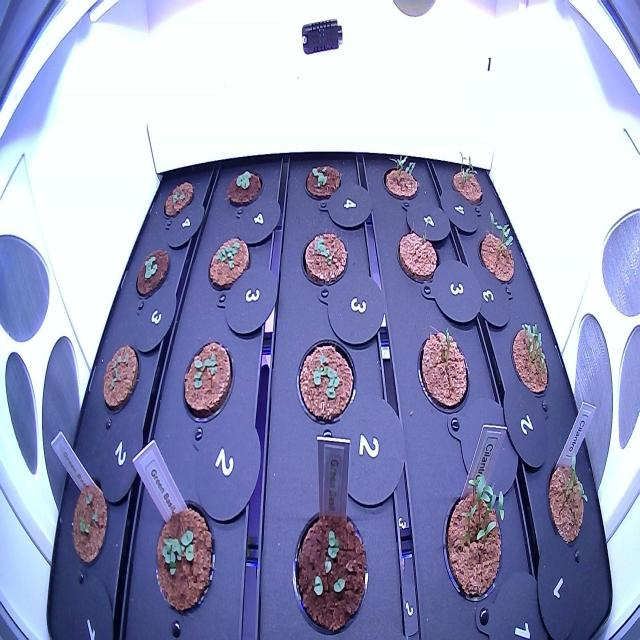germination: (289, 500, 372, 636), (437, 470, 510, 610), (148, 492, 218, 618), (292, 334, 359, 431), (416, 319, 471, 417), (178, 336, 236, 426), (546, 451, 591, 548), (473, 204, 520, 289), (65, 481, 109, 570), (391, 210, 442, 286), (508, 317, 554, 398), (298, 223, 350, 290), (205, 229, 251, 299), (100, 338, 141, 416), (380, 150, 422, 208), (449, 148, 486, 212), (134, 242, 172, 301), (224, 163, 265, 212), (160, 173, 197, 225), (303, 161, 344, 203)
